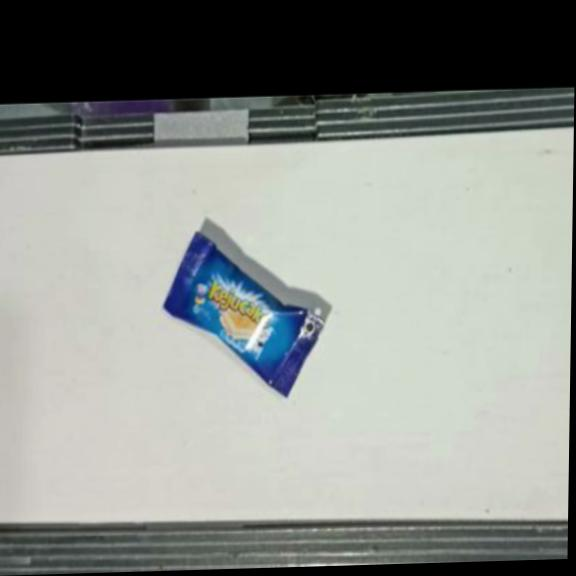Plastik: (160, 224, 327, 400)
